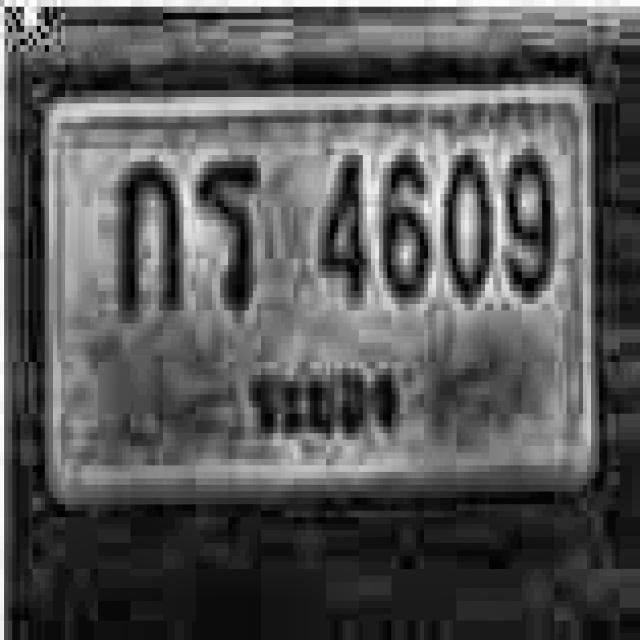license-plate: (44, 82, 598, 503)
